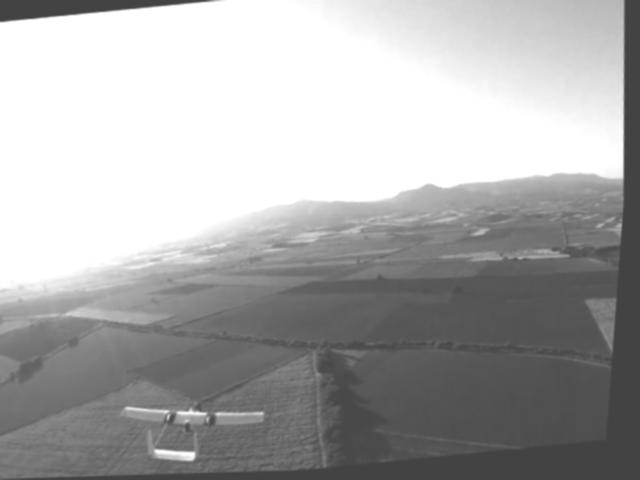hedef: (113, 384, 283, 477)
